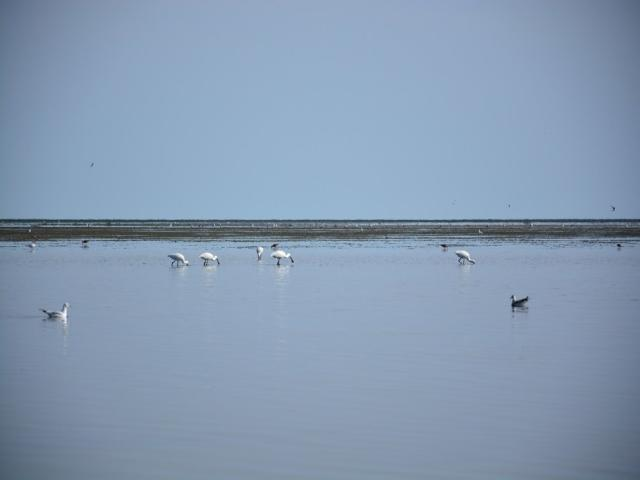Bird: (268, 245, 299, 266), (37, 300, 73, 318), (508, 293, 530, 310), (200, 250, 222, 266), (457, 249, 476, 267), (168, 252, 191, 266), (256, 244, 265, 258), (268, 242, 282, 250), (609, 200, 617, 214), (440, 243, 450, 254), (256, 243, 260, 262), (476, 229, 490, 234), (82, 238, 90, 246), (29, 243, 38, 249)
